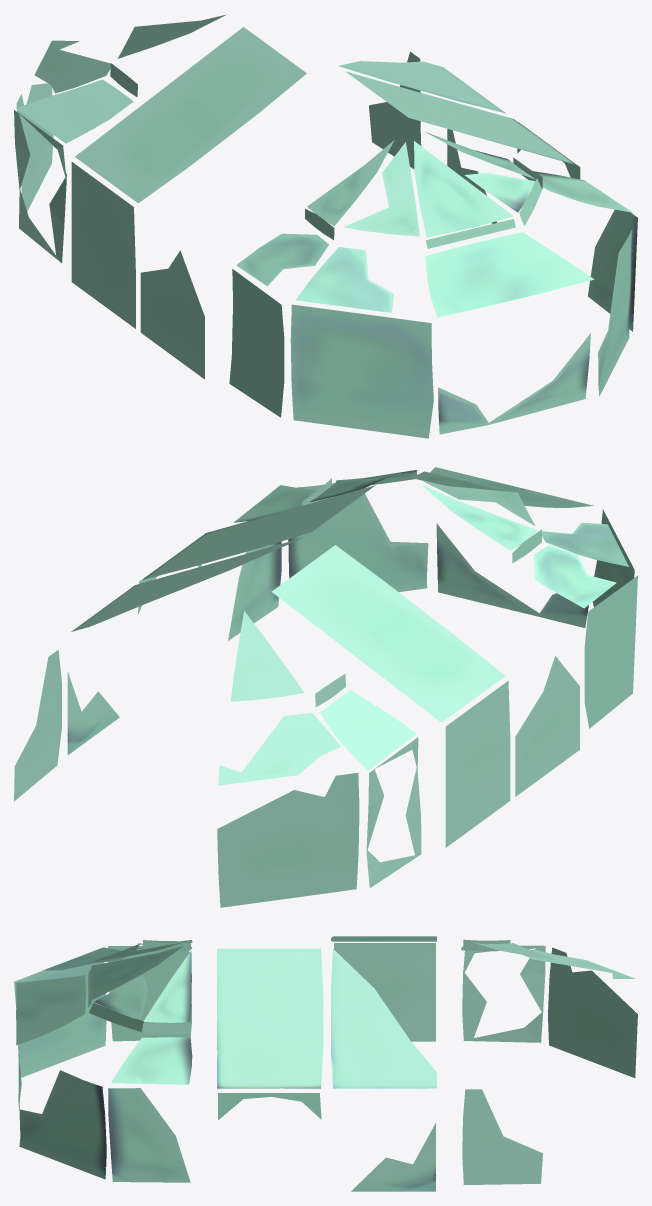
Rendered from VidrioInvernadero.obj.
The picture shows the model from 3 angles, top to bottom: view 1: azimuth 30°, elevation 25°; view 2: azimuth 150°, elevation 25°; view 3: azimuth 270°, elevation 25°; orthographic projection. The views are drawn at different scales.
Visible parts, largest first — view 1: Cube_042; view 2: Cube_042; view 3: Cube_042.
Boxes of the visible parts, bbox=[...] form: Cube_042: bbox=[14, 14, 637, 438]; Cube_042: bbox=[14, 467, 637, 907]; Cube_042: bbox=[14, 936, 637, 1191].
Bounding box in the file's own units: 10070 × 5452 × 17710.
